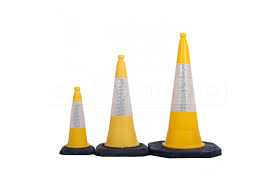cones: (144, 35, 223, 159), (99, 56, 148, 158), (60, 88, 95, 156)
